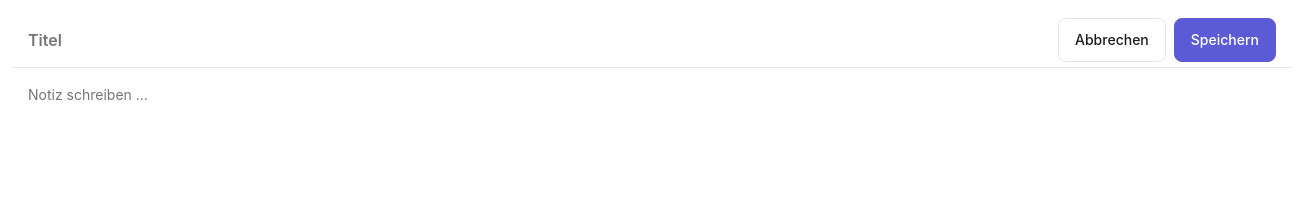
NoteEditor validation (AC-12) › reveals both missing-field hints only after a save attempt
Click the button with test id "editor-save" at (1225, 40), box [1174,18,1276,62]
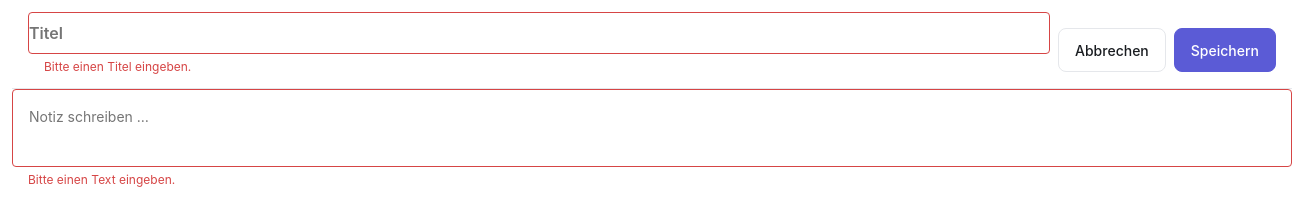
Expected: the message "Bitte einen Titel eingeben." is shown, [44,59,191,74]
Expected: the message "Bitte einen Text eingeben." is shown, [28,172,175,187]
